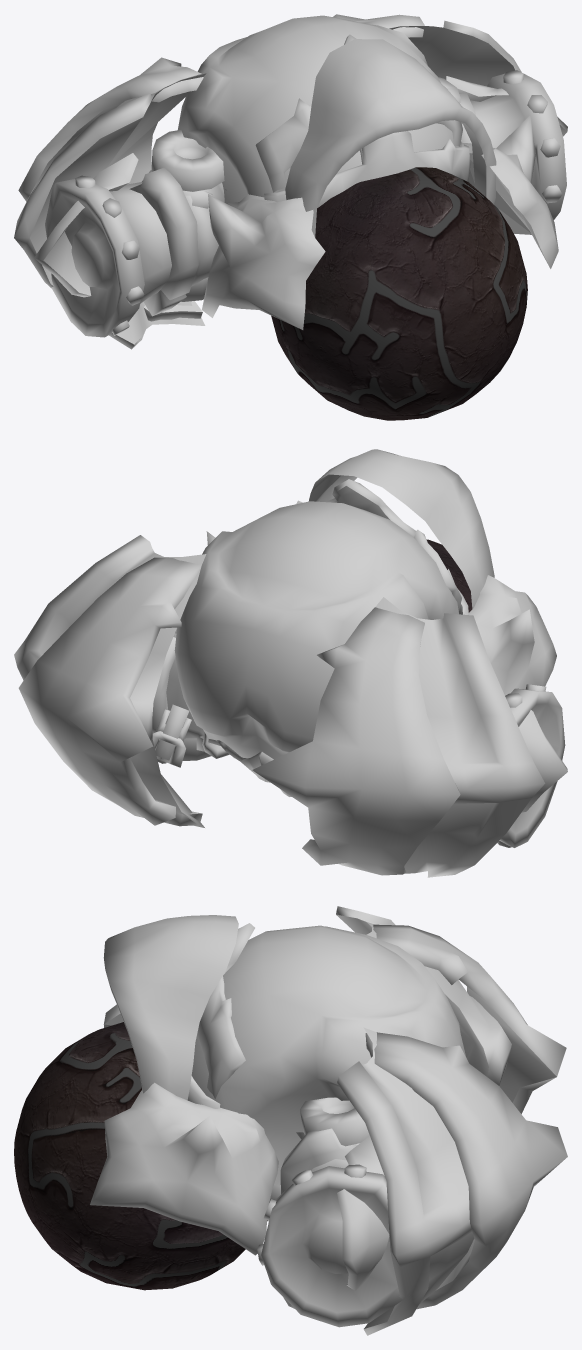
3 views of the same model, one above another, from view 1: azimuth 30°, elevation 25°; view 2: azimuth 150°, elevation 25°; view 3: azimuth 270°, elevation 25° (orthographic). The views are drawn at different scales.
Parts seen in each view (by area): view 1: ironreaver01; view 2: ironreaver01; view 3: ironreaver01.
Boxes of the visible parts, bbox=[...] form: ironreaver01: bbox=[14, 14, 567, 420]; ironreaver01: bbox=[14, 449, 567, 877]; ironreaver01: bbox=[14, 906, 567, 1335].
Bounding box in the file's own units: 1.55 × 0.9444 × 1.33.
